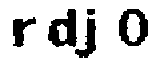0: (115, 6, 149, 50)
d: (45, 6, 81, 48)
j: (78, 5, 105, 60)
r: (9, 14, 39, 49)
